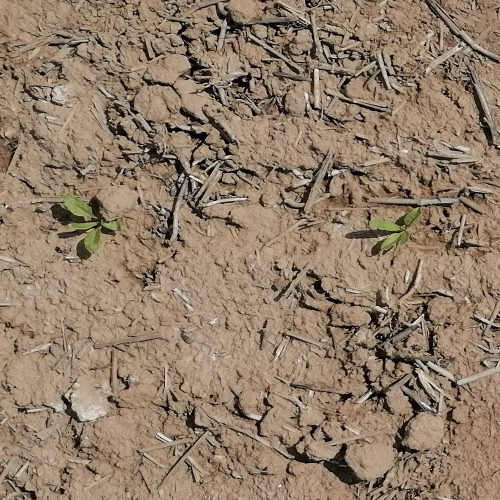beet: (62, 196, 118, 251), (368, 205, 424, 253)
